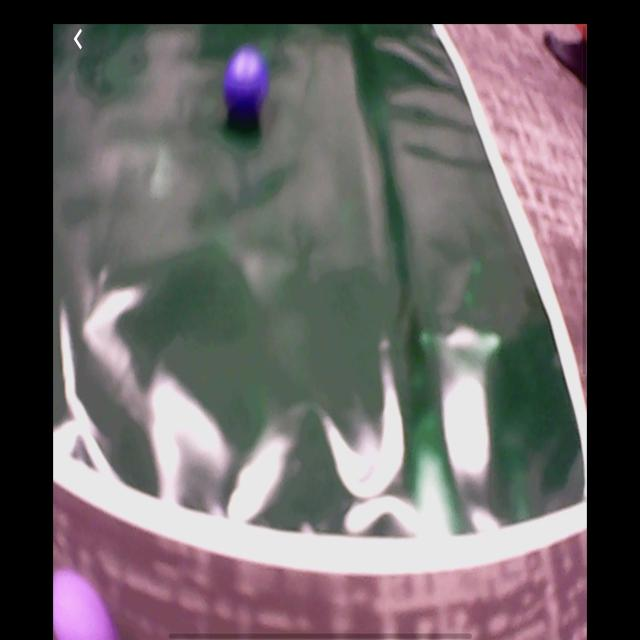ball: (54, 568, 122, 640), (224, 48, 270, 117)
